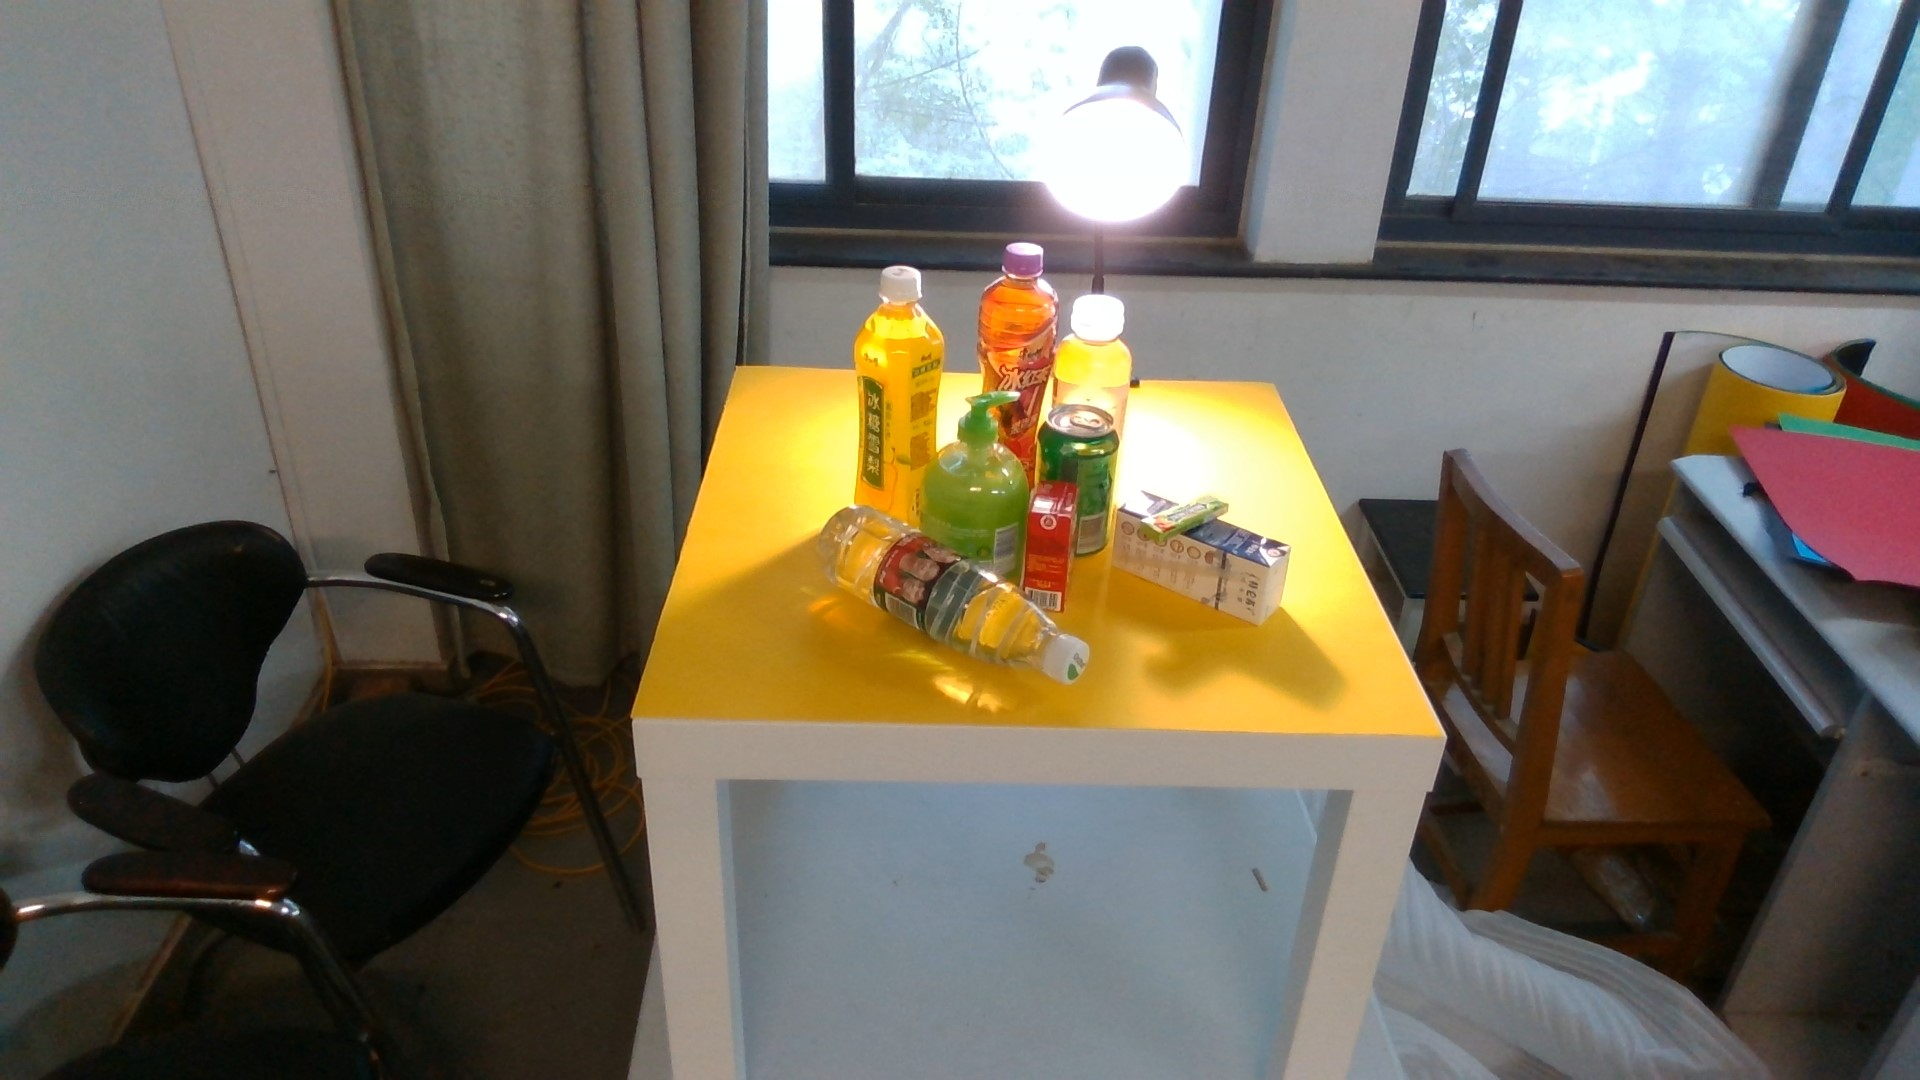BB002: (1134, 495, 1226, 538)
BB010: (1116, 535, 1290, 620)
BB012: (1023, 477, 1079, 603)
ZA002: (923, 392, 1027, 539)
ZC001: (1040, 404, 1116, 480)
ZC009: (977, 239, 1058, 392)
ZC011: (855, 262, 942, 456)
ZC012: (1055, 295, 1131, 402)
ZC017: (808, 541, 1022, 659)
